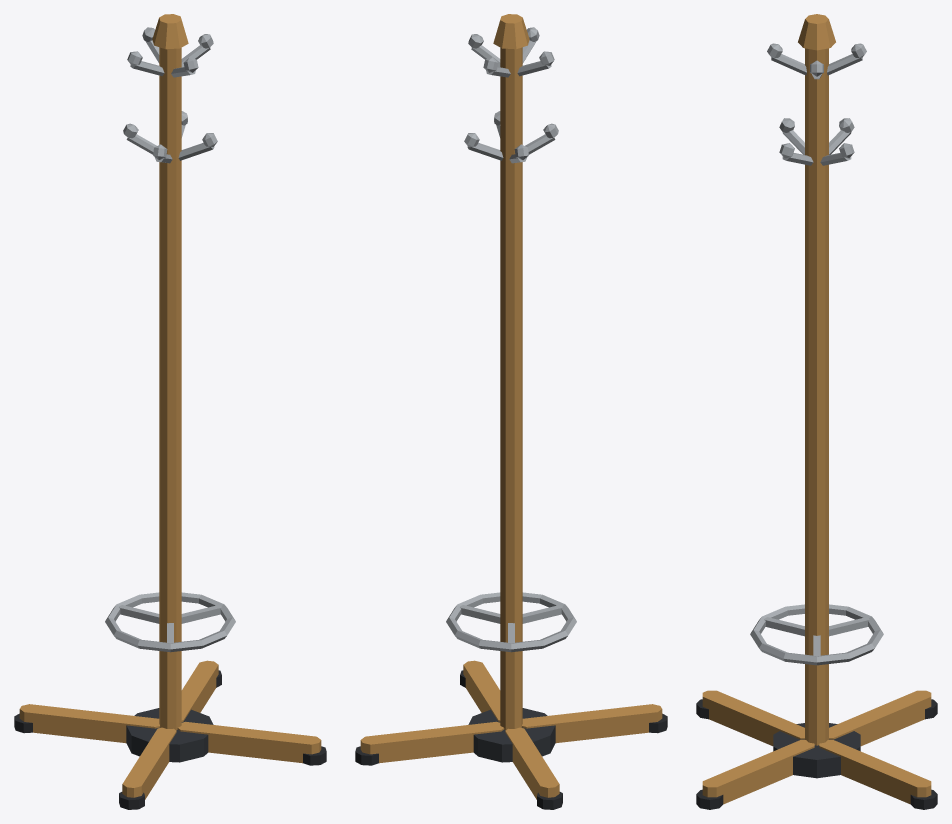
File: SM_LPI_Office_CoatStand_01.fbx
3 renders of one model, left to right at view 1: azimuth 30°, elevation 25°; view 2: azimuth 150°, elevation 25°; view 3: azimuth 270°, elevation 25°, orthographic. The views are drawn at different scales.
Visible parts, largest first — view 1: SM_LPI_Office_CoatStand_01; view 2: SM_LPI_Office_CoatStand_01; view 3: SM_LPI_Office_CoatStand_01.
Boxes of the visible parts, x1,y1,x2,y2 form: SM_LPI_Office_CoatStand_01: (14,14,326,809); SM_LPI_Office_CoatStand_01: (355,14,667,809); SM_LPI_Office_CoatStand_01: (696,14,937,809).
Bounding box in the file's own units: 0.5267 × 1.78 × 0.5267.
